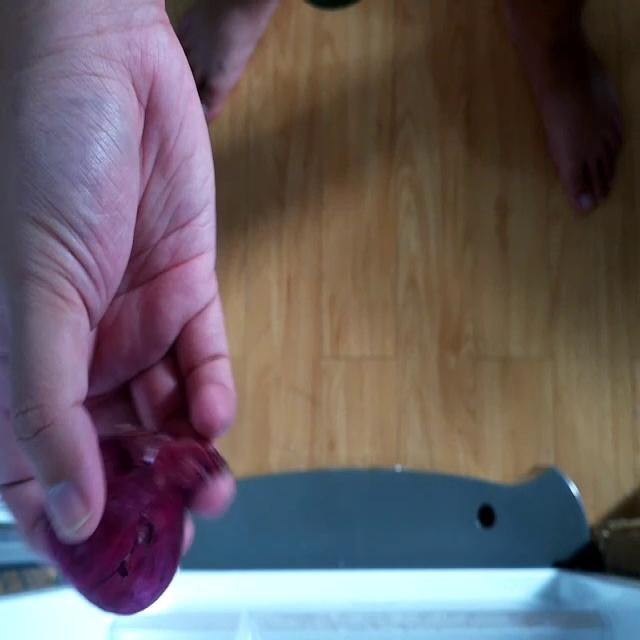onion: (43, 426, 220, 610)
